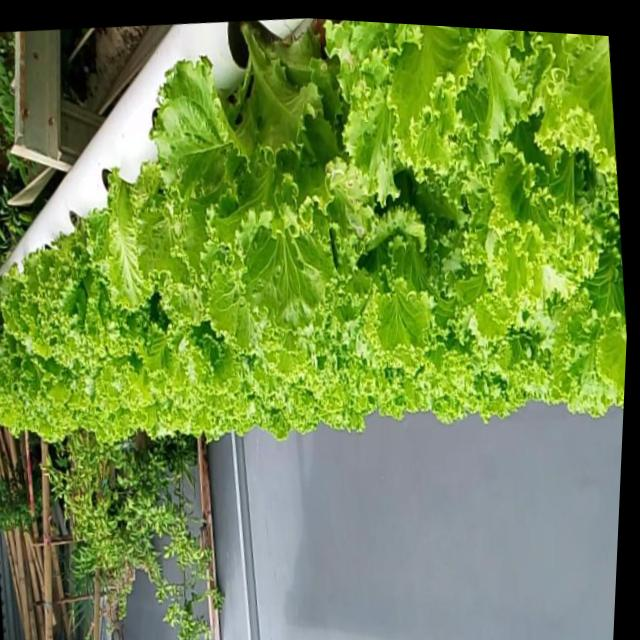Mature: (0, 19, 626, 458), (140, 41, 337, 335), (0, 199, 133, 414)
